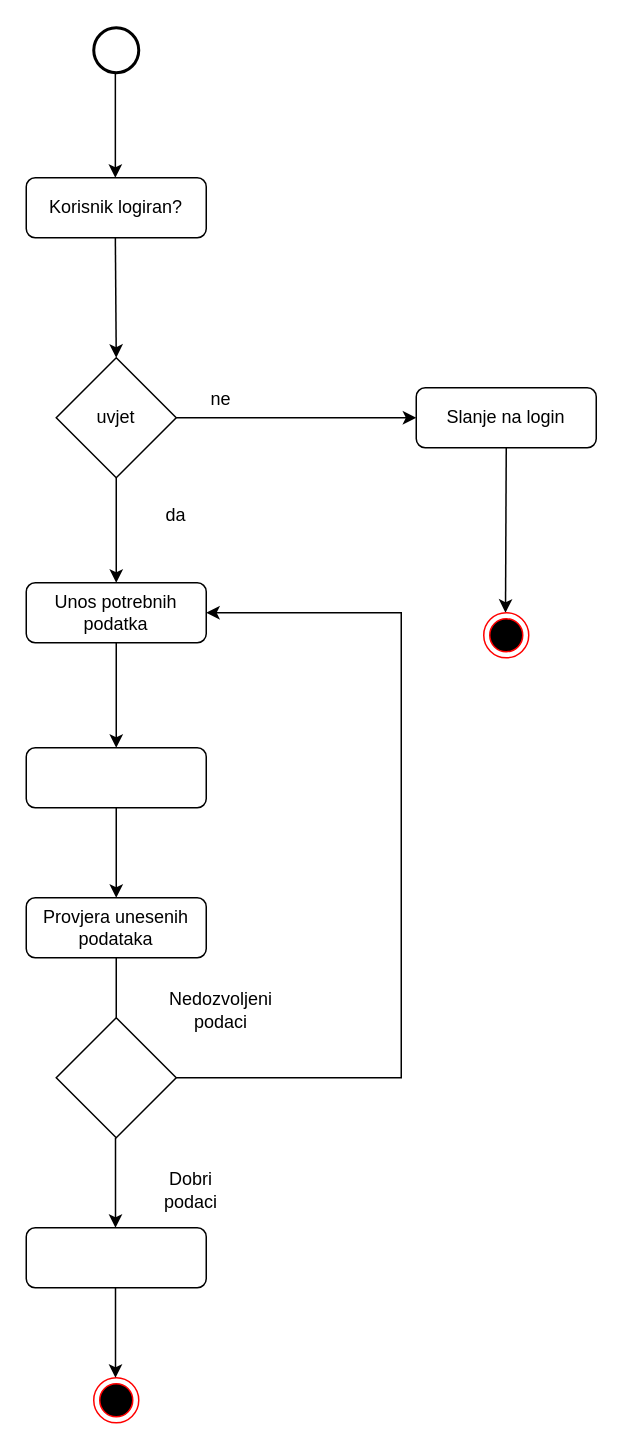
This 623x1449 diagram has some shape labels left out. Here are the shapes that lost their labels. From the top down, the box of each, then its label:
(25, 746, 206, 808): Slanje unesenih podataka
(25, 1226, 206, 1288): Korisnik je prijavljen na natjecanje
